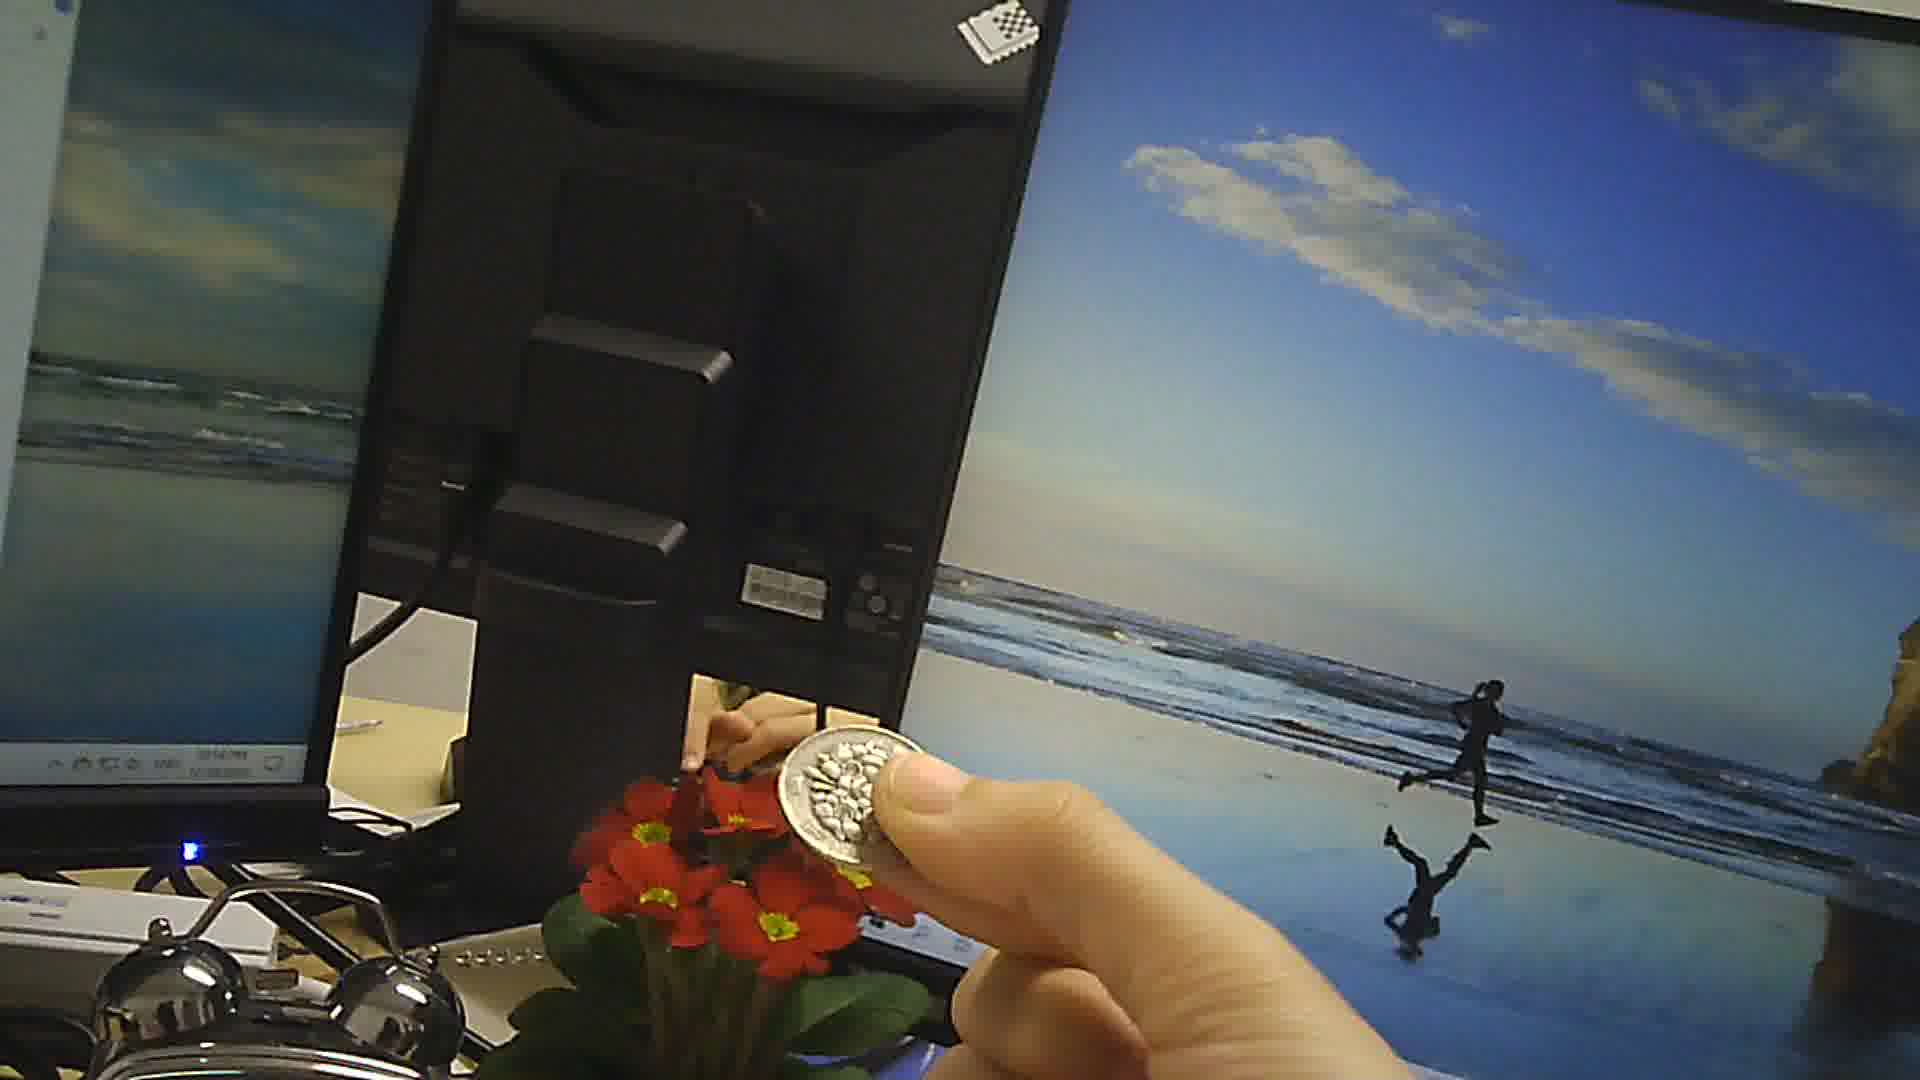100 Yen: (775, 721, 947, 878)
